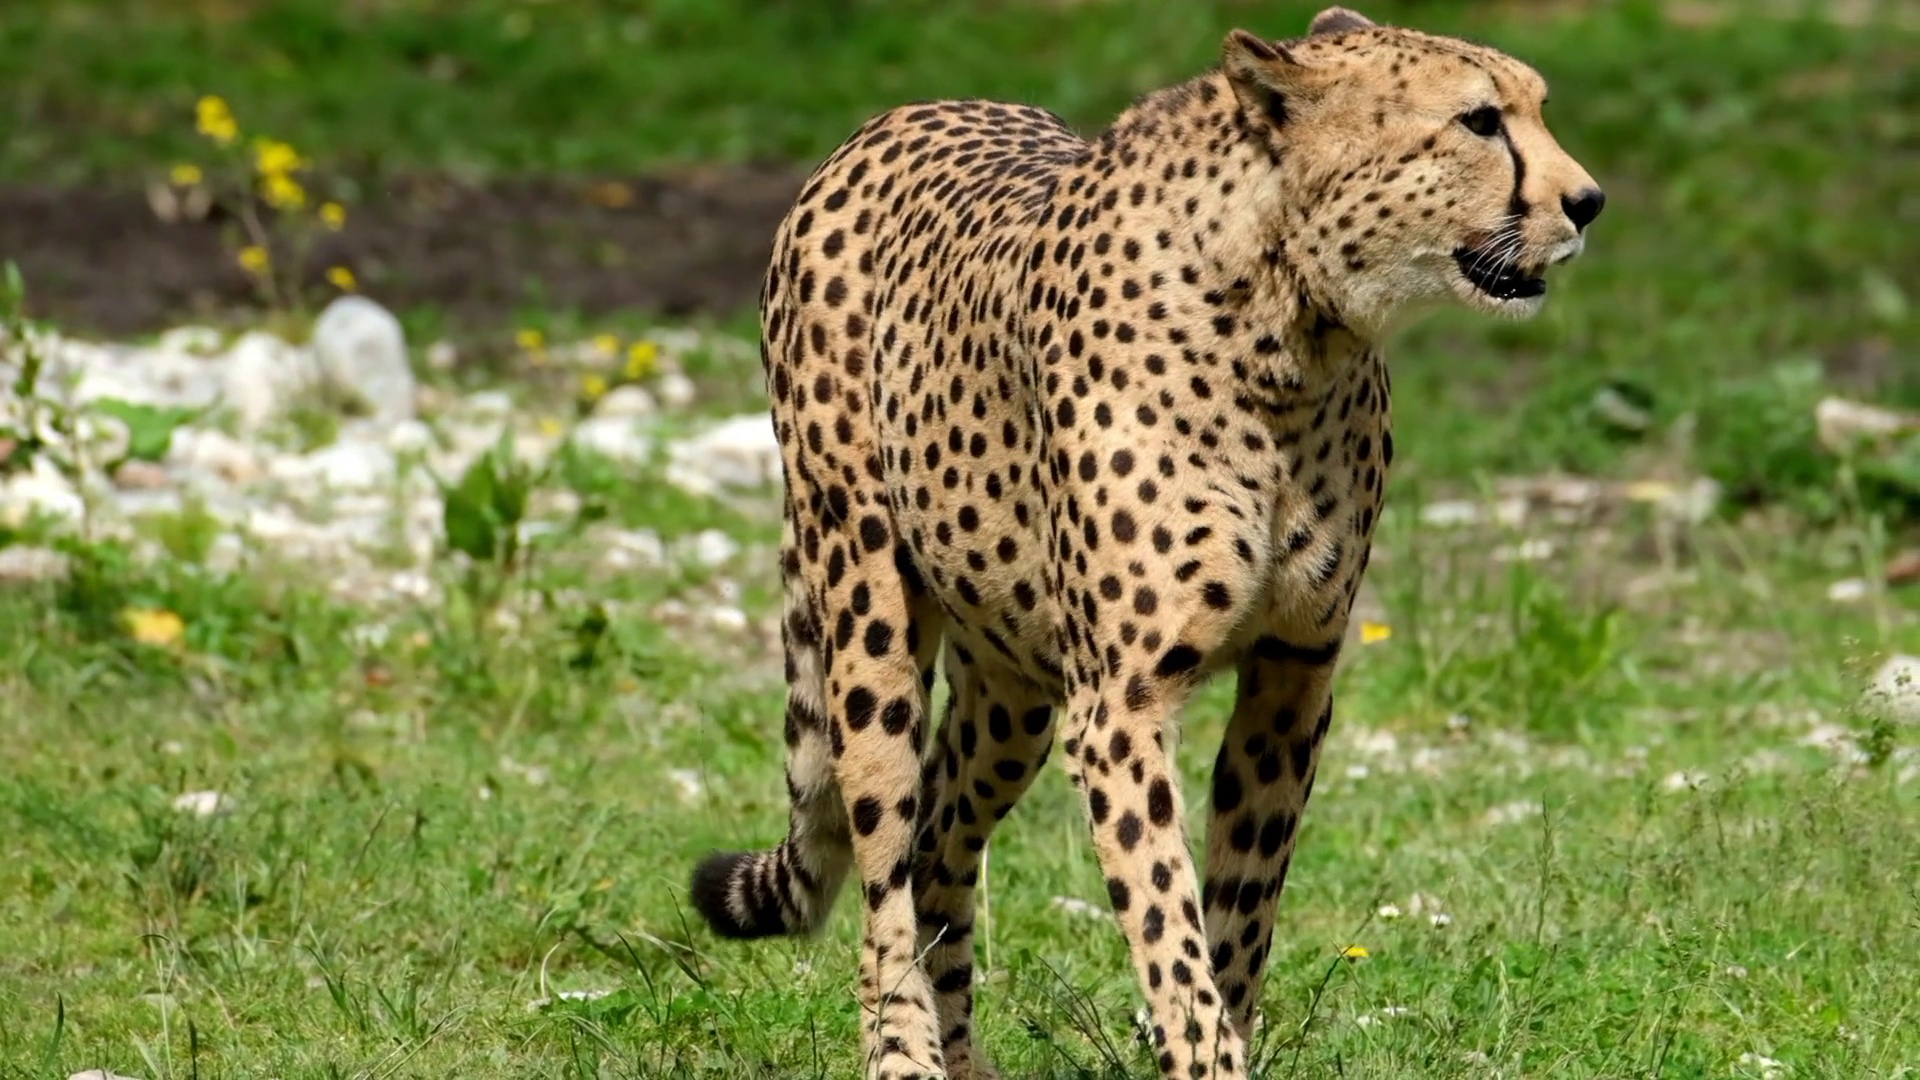Cheetah: (690, 5, 1611, 1080)
